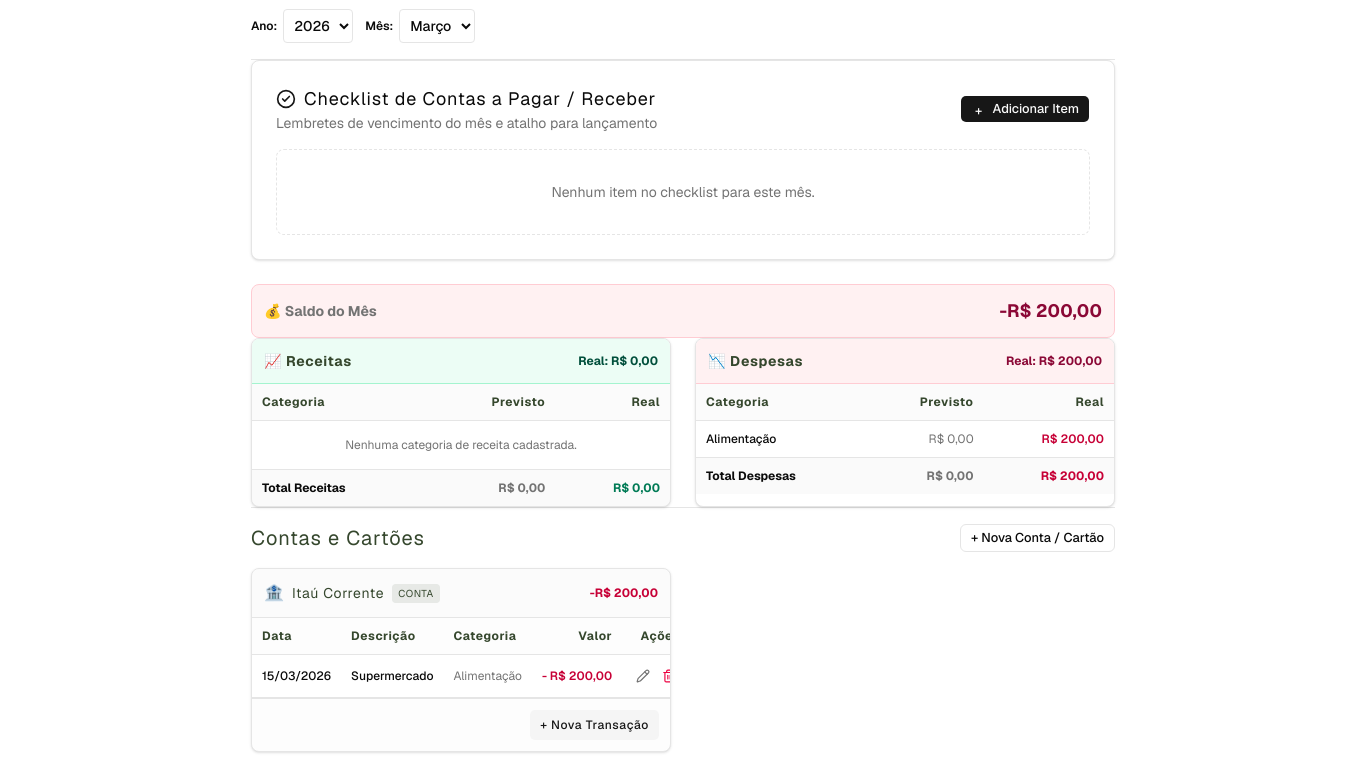
Test: Página de Cadastro de Transações /pluto/transactions › deve abrir o modal de edição preenchido ao clicar em editar
(page scrolled)
Click the button named "Editar lançamento Supermercado" at (643, 676), box x1=632 y1=665 x2=654 y2=687
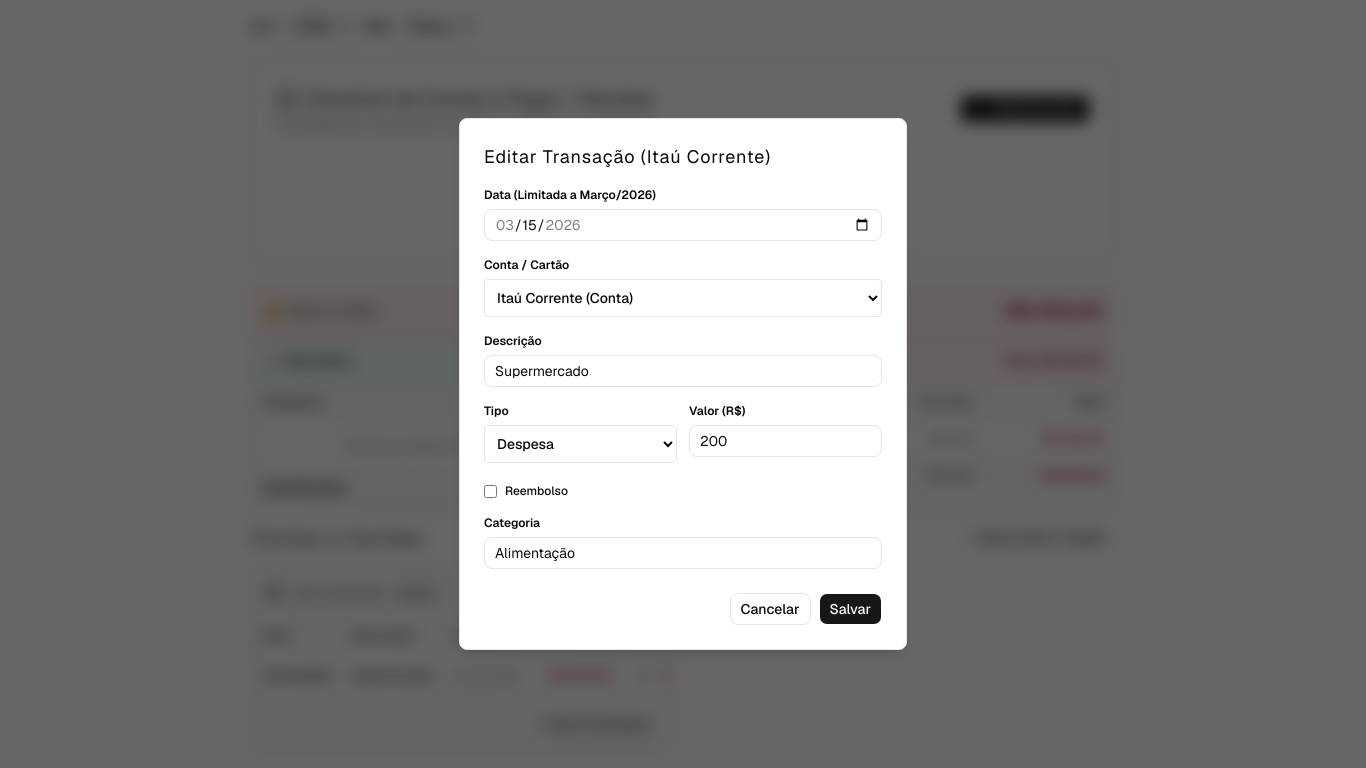
Result: the heading "Editar Transação (Itaú Corrente)" is shown at x1=484 y1=145 x2=771 y2=168
Result: the field showing "Supermercado" is shown at x1=484 y1=355 x2=882 y2=387
Result: the number field showing "200" is shown at x1=689 y1=425 x2=882 y2=457
